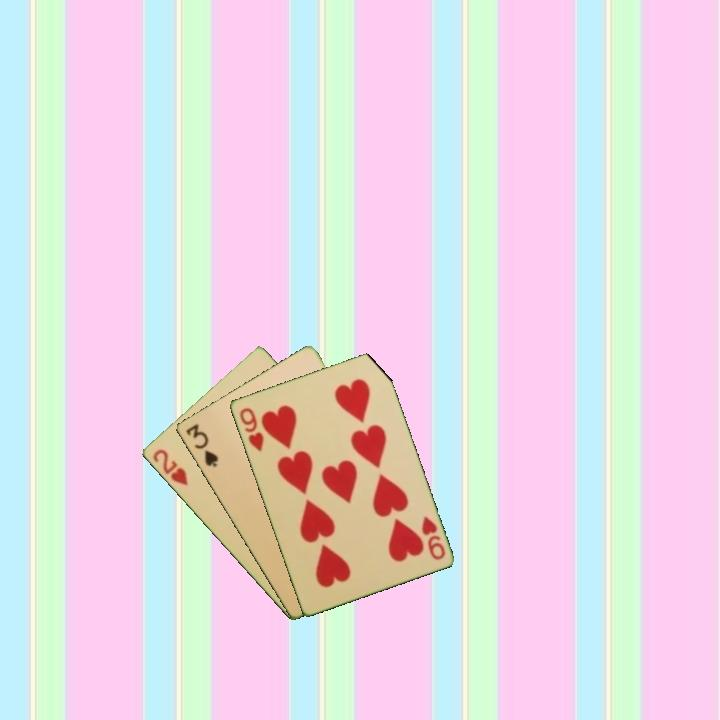2h: (149, 445, 190, 489)
3s: (182, 420, 221, 470)
9h: (236, 404, 266, 455), (418, 512, 448, 563)
